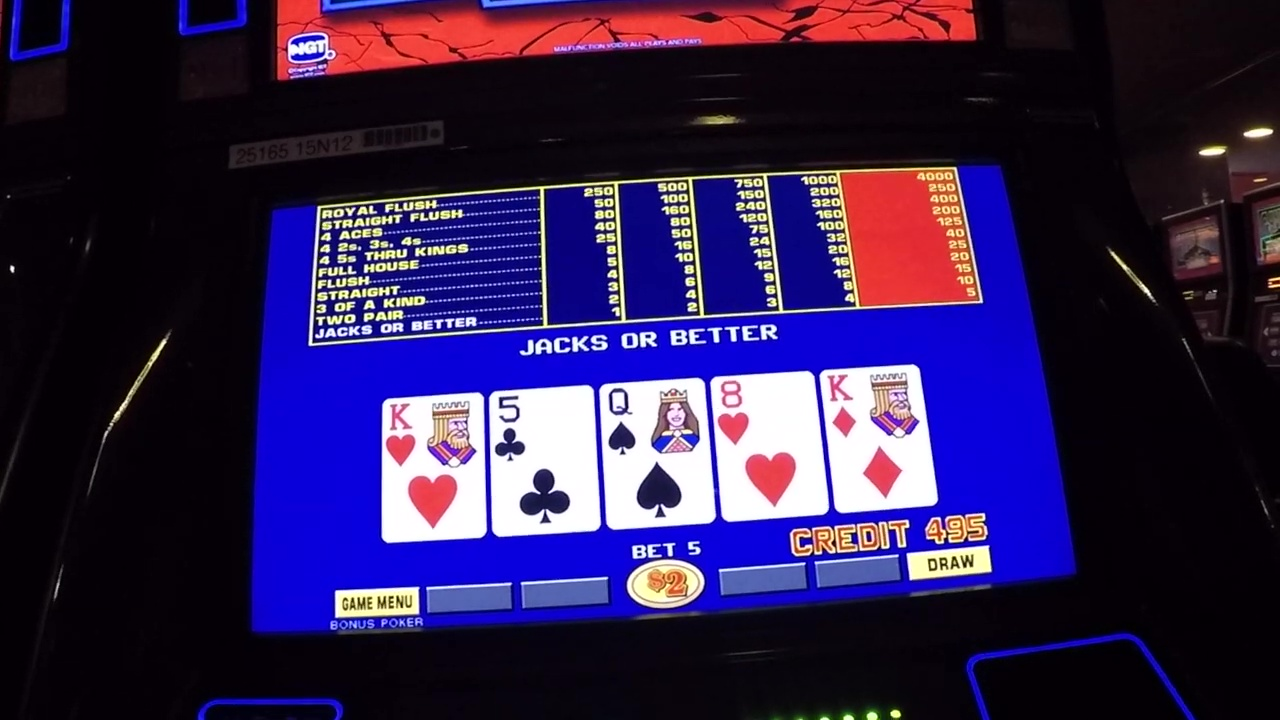C5: (492, 394, 593, 461)
DK: (830, 372, 922, 443)
H8: (715, 380, 815, 448)
HK: (386, 400, 480, 466)
SQ: (603, 387, 704, 454)
